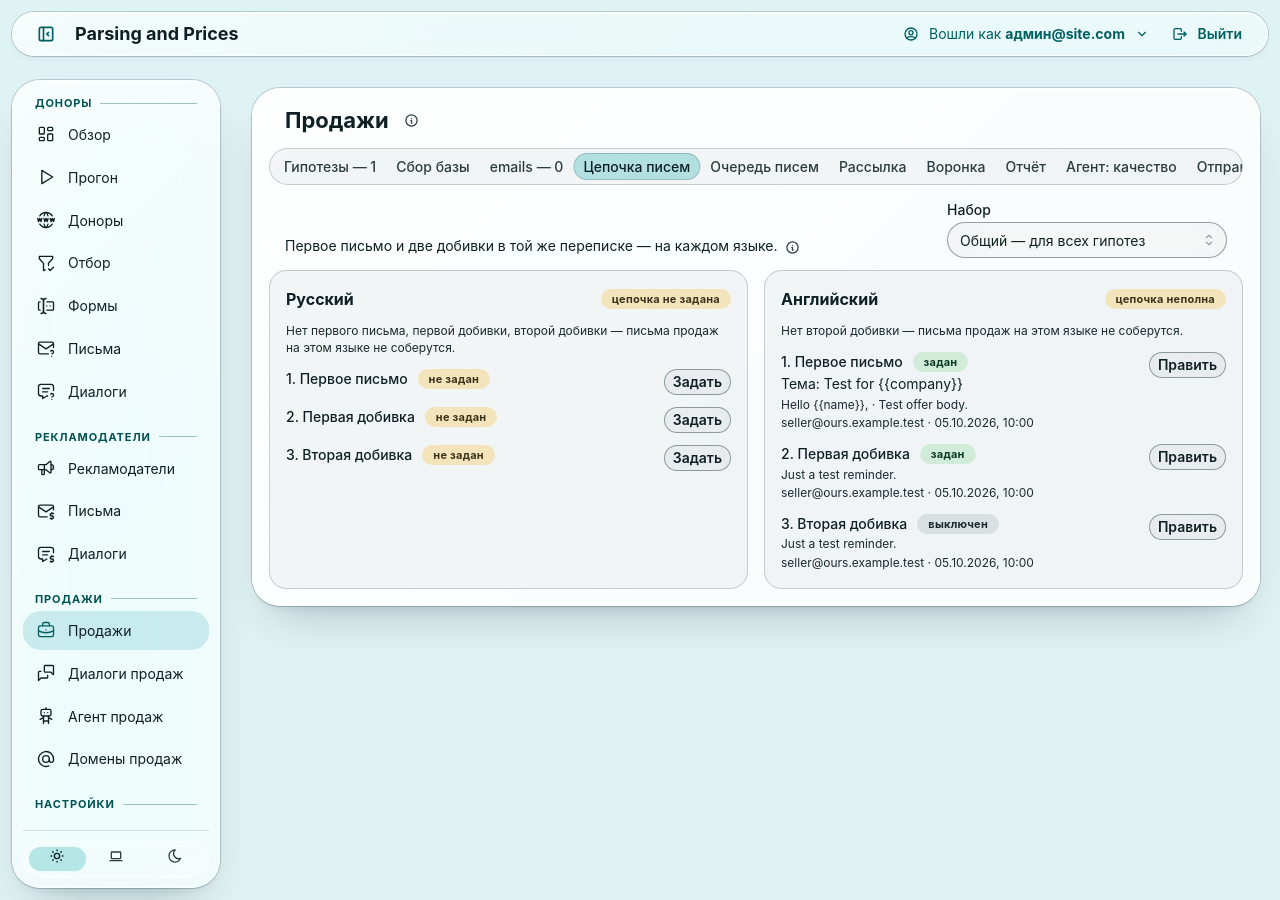
Scenario: цепочка писем: окно шага › у текста добивки — rewrite переписывает сборка, лиду без имени — {{name|there}}
Check: the heading "Английский" is shown, box [781,287,878,311]
Click the 2nd button "Править" at (1187, 457), box [1149,444,1226,470]
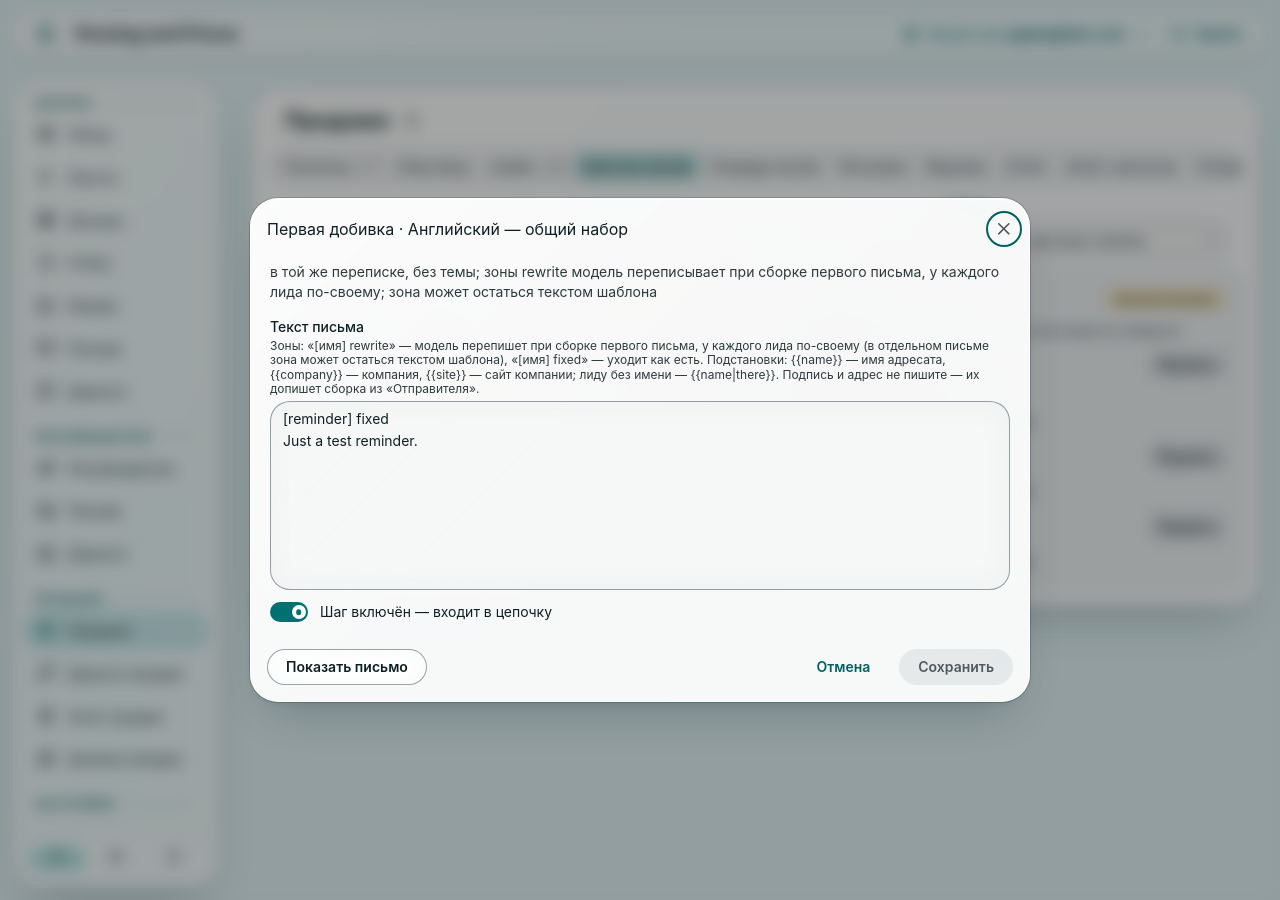
Check: the text "Зоны: «[имя] rewrite» — модель перепишет при сборке" shows "у каждого лида по-своему", box [270,338,989,396]
Check: the text "Зоны: «[имя] rewrite» — модель перепишет при сборке" shows "лиду без имени — {{name|there}}", box [270,338,989,396]
Check: the text "зоны rewrite модель переписывает при сборке первого письма" is shown, box [270,262,999,300]
